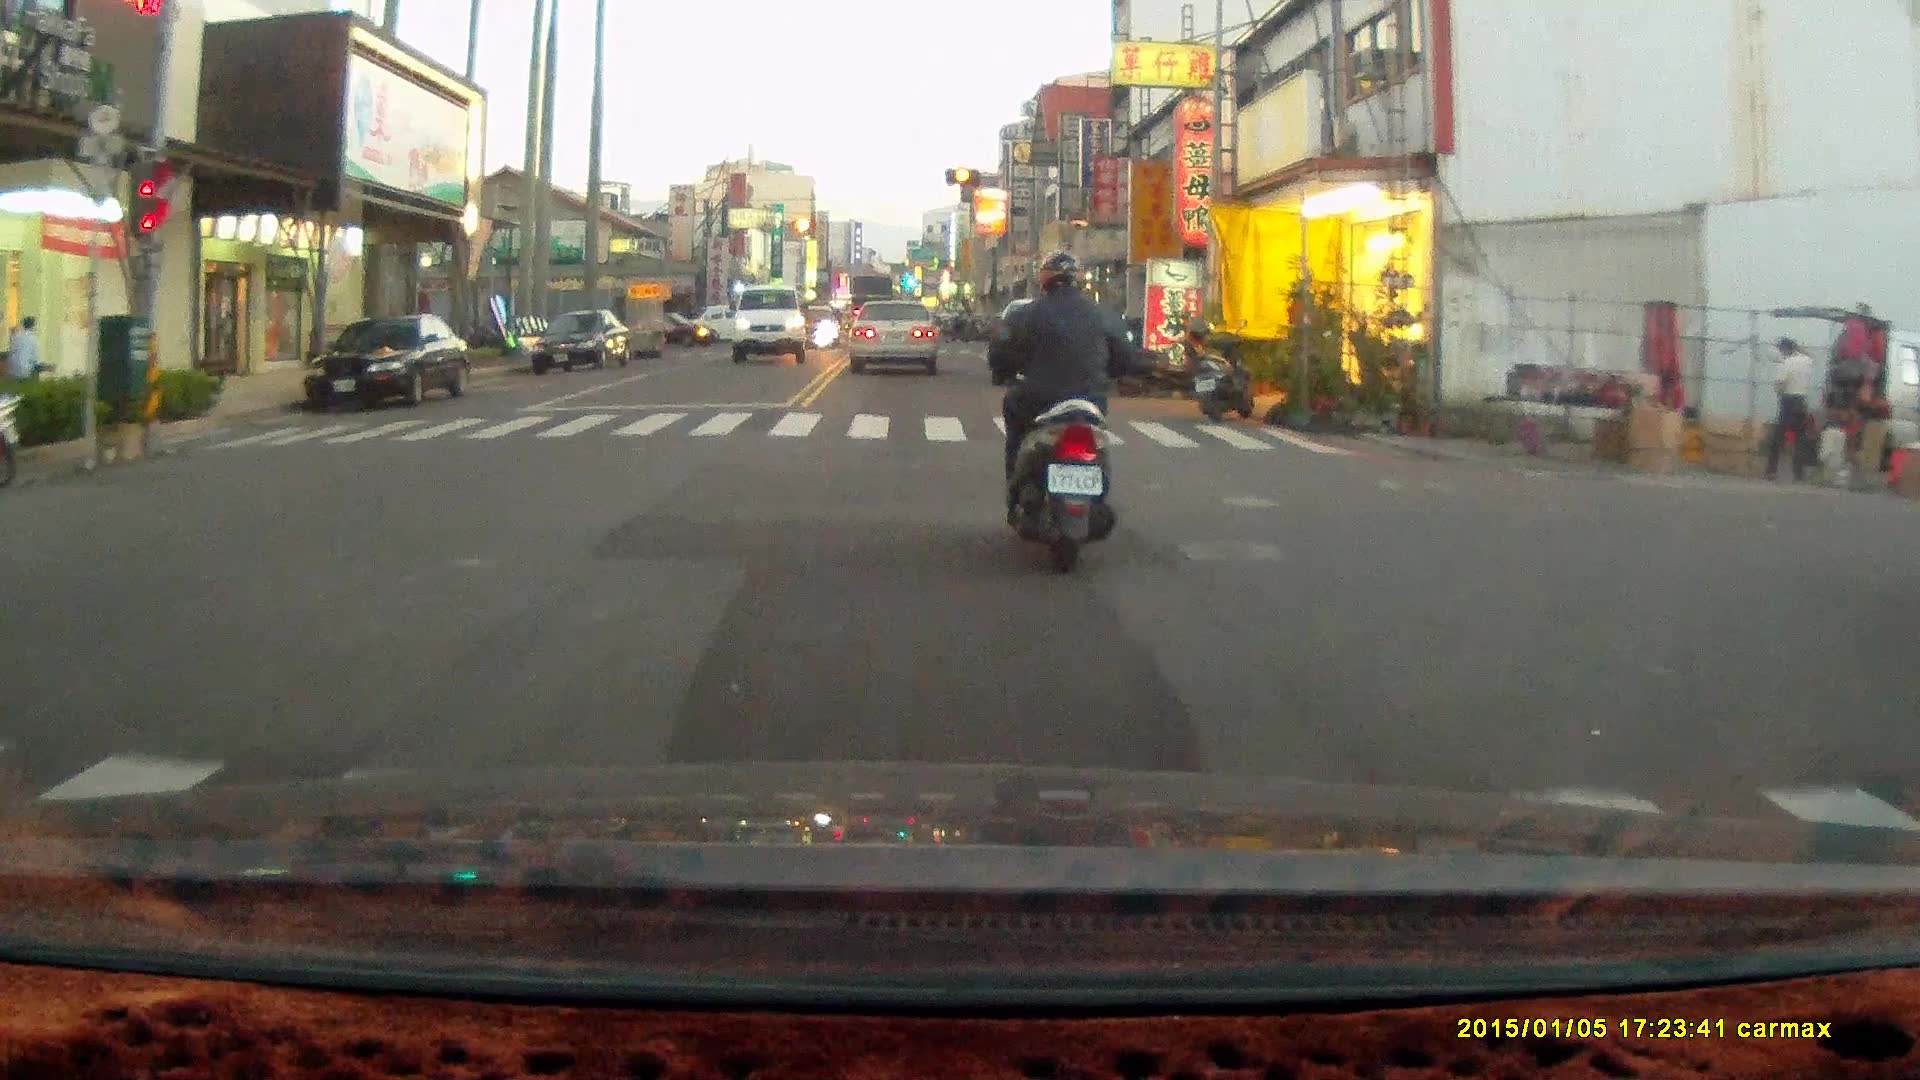pedestrian: (1761, 337, 1813, 484), (11, 313, 41, 391)
rider: (983, 248, 1131, 573)
vehicle: (1821, 318, 1920, 489), (301, 314, 471, 413), (532, 307, 632, 377), (851, 301, 947, 372), (732, 285, 809, 365)
